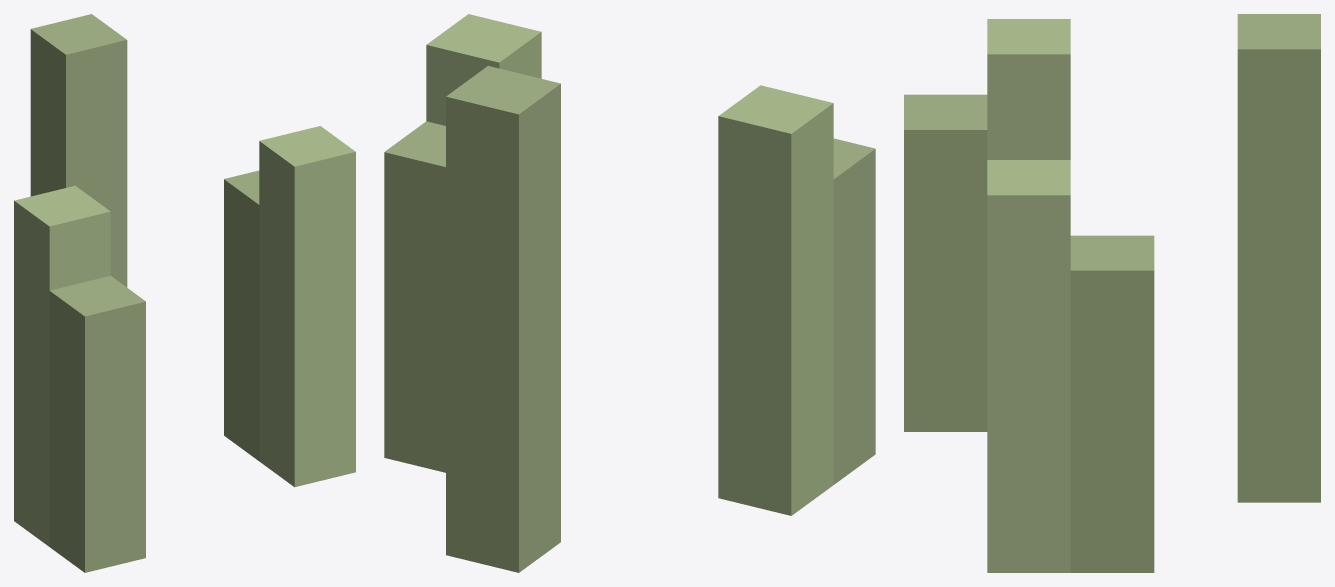
The model's file is muerdago_01.glb.
The picture shows the model from 3 angles, left to right: view 1: azimuth 30°, elevation 25°; view 2: azimuth 150°, elevation 25°; view 3: azimuth 270°, elevation 25°; orthographic projection. The views are drawn at different scales.
Visible parts, largest first — view 1: muerdago_01; view 2: muerdago_01; view 3: muerdago_01.
Part boxes in pixels (x1,y1,x2,y2): muerdago_01: (14, 14, 355, 572); muerdago_01: (384, 14, 875, 572); muerdago_01: (904, 14, 1320, 572).
Bounding box in the file's own units: 0.5 × 0.6 × 0.5.
